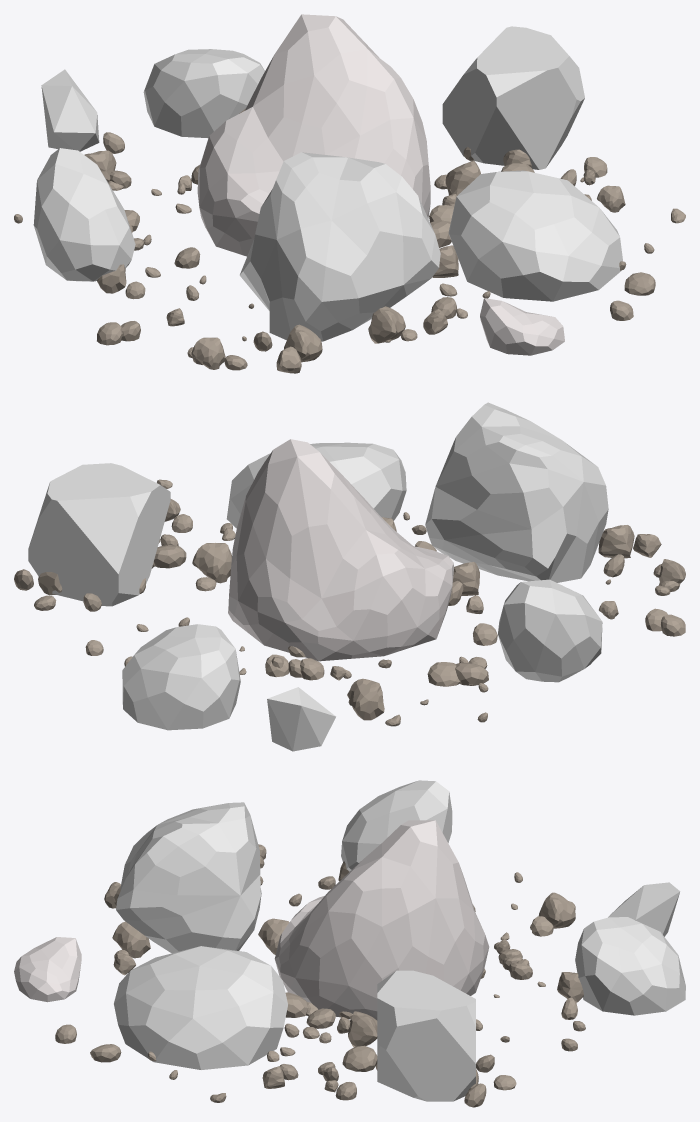
The model's file is stonegroup.glb.
The picture shows the model from 3 angles, top to bottom: view 1: azimuth 30°, elevation 25°; view 2: azimuth 150°, elevation 25°; view 3: azimuth 270°, elevation 25°; orthographic projection. The views are drawn at different scales.
Visible parts, largest first — view 1: Icosphere.004, Cube, Icosphere.002, Icosphere.001, Cube.001, Icosphere, Icosphere.010, Icosphere.005, Icosphere.003; view 2: Icosphere.004, Cube, Icosphere.001, Cube.001, Icosphere.010, Icosphere, Icosphere.002, Icosphere.003; view 3: Icosphere.004, Icosphere.002, Cube, Icosphere.001, Cube.001, Icosphere.010, Icosphere, Icosphere.005, Icosphere.003.
Part boxes in pixels (x1,y1,x2,y2): Icosphere.004: (197, 14, 430, 256); Cube: (239, 152, 440, 341); Icosphere.002: (448, 170, 622, 301); Icosphere.001: (14, 108, 685, 373); Cube.001: (442, 26, 584, 169); Icosphere: (33, 148, 135, 281); Icosphere.010: (143, 49, 264, 137); Icosphere.005: (480, 298, 564, 355); Icosphere.003: (41, 69, 99, 151); Icosphere.004: (228, 439, 453, 661); Cube: (425, 402, 608, 582); Icosphere.001: (14, 479, 685, 726); Cube.001: (28, 463, 170, 606); Icosphere.010: (122, 624, 240, 730); Icosphere: (498, 579, 602, 682); Icosphere.002: (226, 442, 406, 528); Icosphere.003: (267, 687, 335, 751); Icosphere.004: (274, 820, 489, 1020); Icosphere.002: (114, 946, 287, 1069); Cube: (116, 802, 261, 953); Icosphere.001: (55, 844, 585, 1107); Cube.001: (377, 970, 475, 1101); Icosphere.010: (575, 917, 685, 1015); Icosphere: (341, 780, 452, 871); Icosphere.005: (14, 937, 81, 1002); Icosphere.003: (608, 882, 680, 936).
Size of the model in its own units: 0.5993 by 0.1878 by 0.6663.
